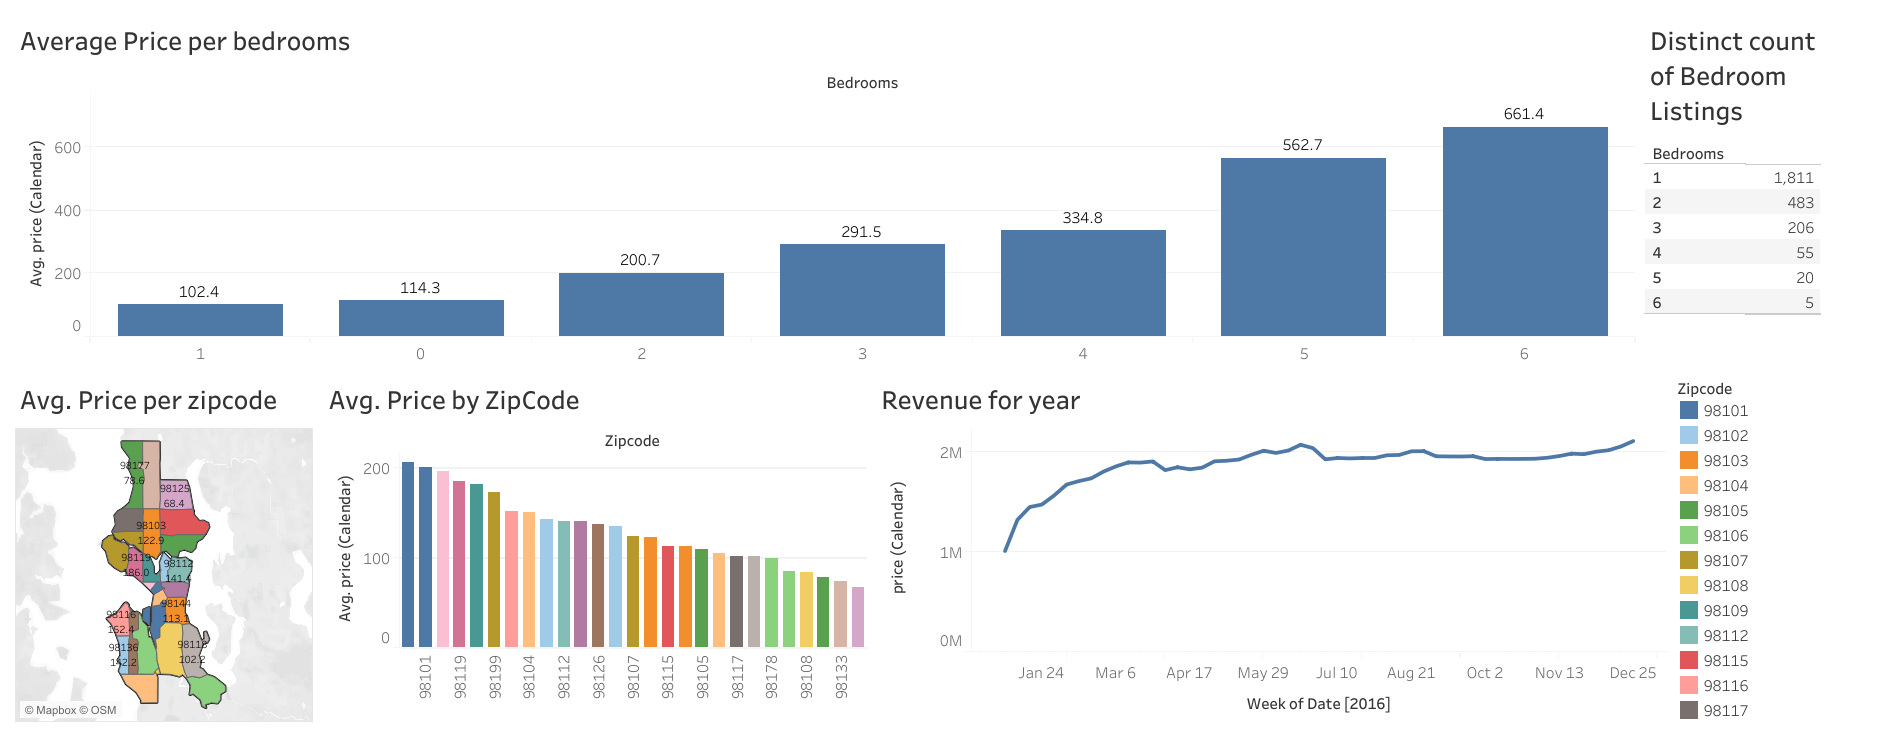

This screenshot's page, from the dashboard's own definition file:
{"tool":"tableau","page":{"name":"Dashboard 1","canvas":[1000,1000],"units":"permille","ordinal":0},"visuals":[{"type":"worksheet","title":"Sheet 4","mark":"Automatic","rows":["price (Calendar)"],"cols":["bedrooms"],"box":[4.8,10,867.2,490]},{"type":"worksheet","title":"Sheet 5","mark":"Automatic","rows":["bedrooms"],"box":[872.1,10,123.1,490]},{"type":"worksheet","title":"Sheet 2","mark":"Multipolygon","box":[4.8,500,166,490]},{"type":"worksheet","title":"Sheet 1","mark":"Automatic","rows":["price (Calendar)"],"cols":["zipcode"],"box":[170.8,500,297.5,490]},{"type":"worksheet","title":"Sheet 3","mark":"Automatic","rows":["price (Calendar)"],"cols":["date"],"box":[468.3,500,430.3,490]},{"type":"legend","title":"Sheet 1","param":"[federated.01h8wbp104qab51c9p99j0k4jgvk].[none:zipcode:ok]","box":[898.6,500,96.6,490]}]}

Visuals, with their boxes on the dashboard's canvas, which has no fixed pixel size, in thousandths of its width and height (x1, y1, x2, y2). These are canvas units, not pixel positions in the 1880x736 screenshot, which may show the page scaled, cropped or inside an application window:
"Sheet 4" worksheet: pyautogui.locateOnScreen(5, 10, 872, 500)
"Sheet 5" worksheet: pyautogui.locateOnScreen(872, 10, 995, 500)
"Sheet 2" worksheet (Multipolygon marks): pyautogui.locateOnScreen(5, 500, 171, 990)
"Sheet 1" worksheet: pyautogui.locateOnScreen(171, 500, 468, 990)
"Sheet 3" worksheet: pyautogui.locateOnScreen(468, 500, 899, 990)
"Sheet 1" legend: pyautogui.locateOnScreen(899, 500, 995, 990)
